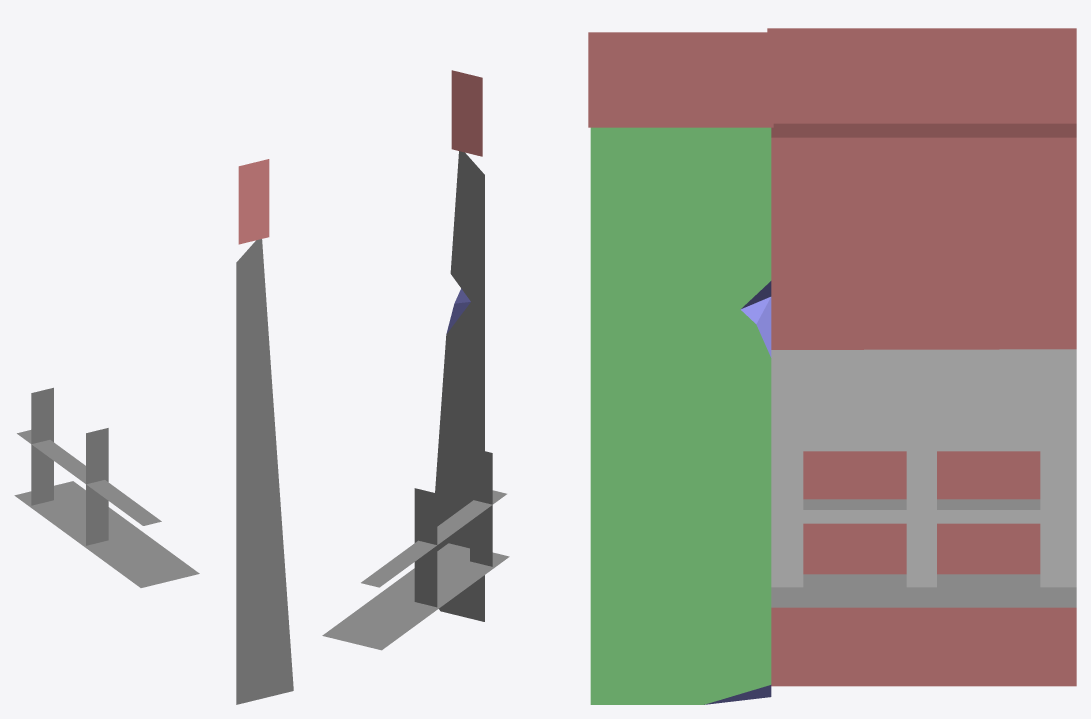
The model's file is SSQ_BRoom01_Wall04.gltf.
3 renders of one model, left to right at view 1: azimuth 30°, elevation 25°; view 2: azimuth 150°, elevation 25°; view 3: azimuth 270°, elevation 25°, orthographic. The views are drawn at different scales.
Visible parts, largest first — view 1: SSQ_BRoom01_Wall04; view 2: SSQ_BRoom01_Wall04; view 3: SSQ_BRoom01_Wall04.
Boxes of the visible parts, left/top/right/bottom form: SSQ_BRoom01_Wall04: left=14, top=159, right=293, bottom=704; SSQ_BRoom01_Wall04: left=322, top=70, right=509, bottom=650; SSQ_BRoom01_Wall04: left=588, top=28, right=1076, bottom=704.
Size of the model in its own units: 0.6025 by 3.86 by 2.6.
